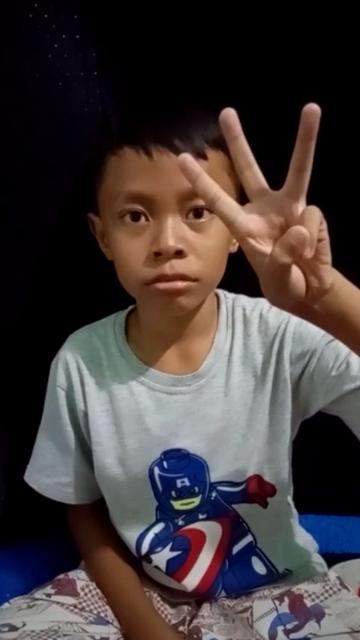W: (174, 100, 334, 320)
